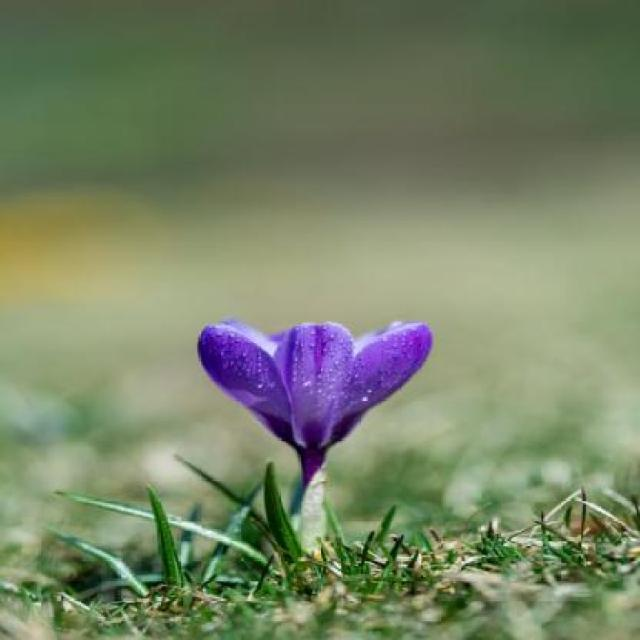Flower: (196, 312, 436, 468)
